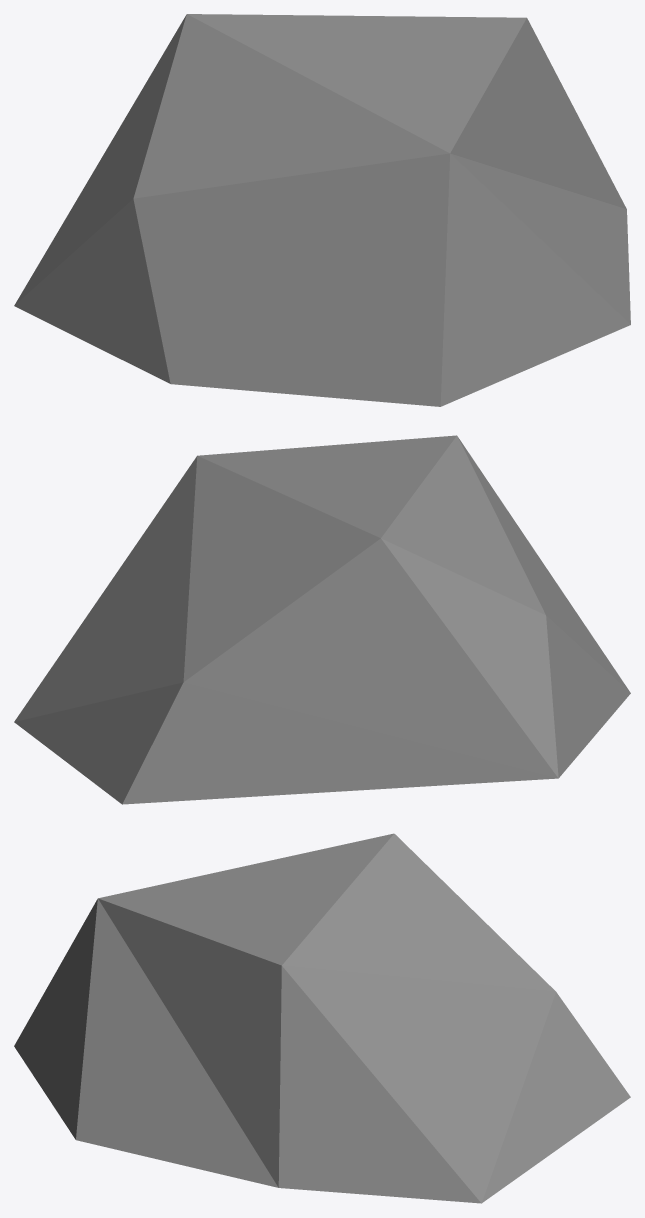
File: rock_02_a.fbx
3 views of the same model, one above another, from view 1: azimuth 30°, elevation 25°; view 2: azimuth 150°, elevation 25°; view 3: azimuth 270°, elevation 25° (orthographic). The views are drawn at different scales.
Visible parts, largest first — view 1: Rock_02_a; view 2: Rock_02_a; view 3: Rock_02_a.
Boxes of the visible parts, <box> form: Rock_02_a: <box>14,14,630,406</box>; Rock_02_a: <box>14,435,630,804</box>; Rock_02_a: <box>14,833,630,1203</box>.
Size of the model in its own units: 5.46 by 6.15 by 2.42.
